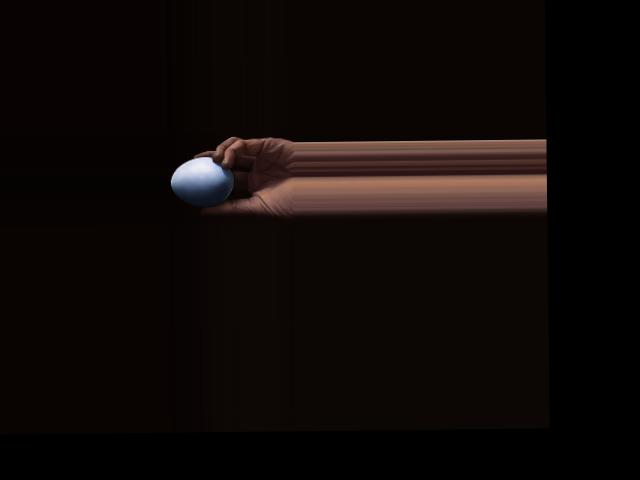egg: (169, 155, 233, 206)
